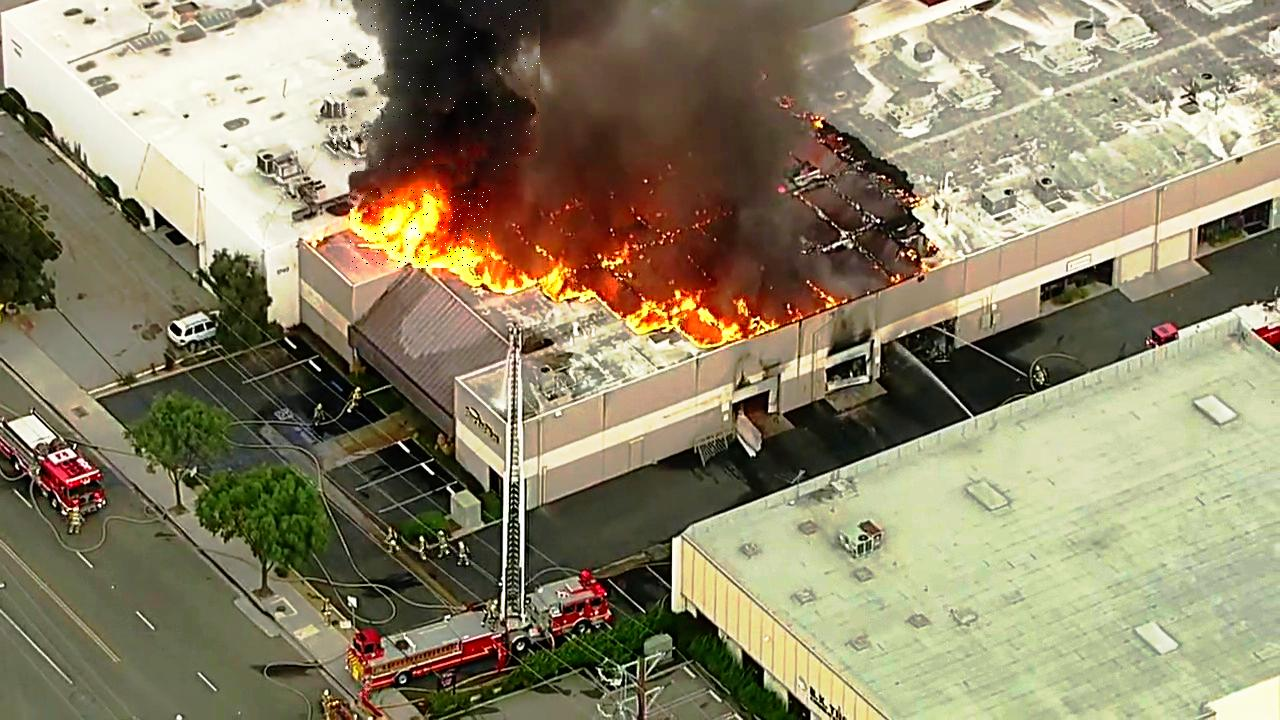fire: (350, 189, 491, 271)
smoke: (327, 0, 540, 173)
